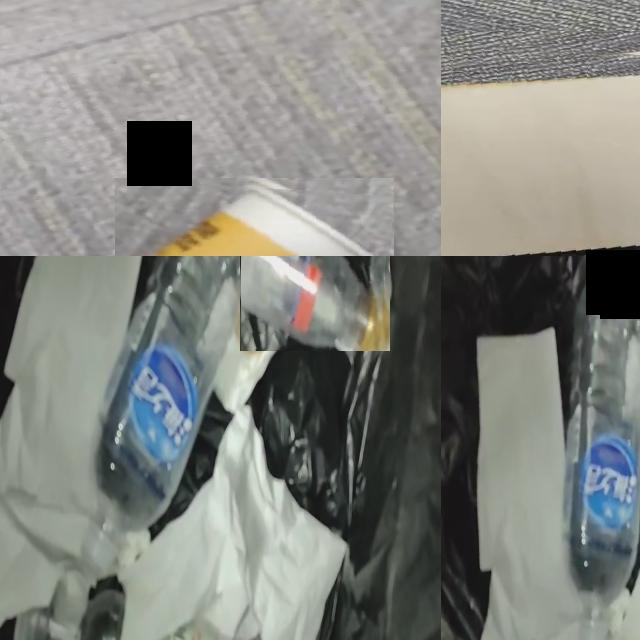bottle: (82, 256, 257, 572), (563, 281, 640, 640), (241, 256, 382, 351)
carton: (441, 70, 640, 256)
dixie_cup: (153, 186, 379, 256)
paper: (99, 407, 348, 640), (0, 256, 141, 626), (477, 329, 584, 640), (609, 589, 630, 640)
